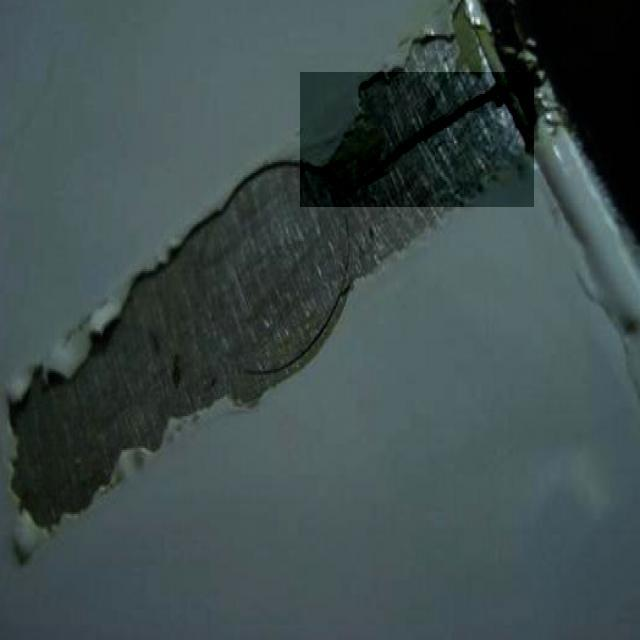crack: (301, 73, 535, 208)
